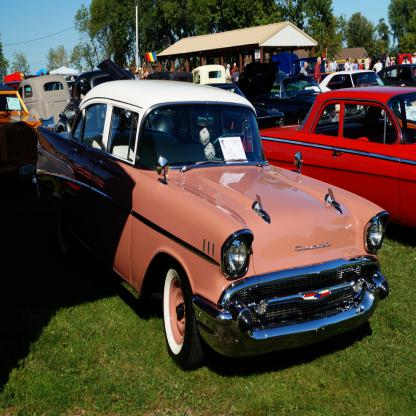Car: (0, 53, 416, 373)
